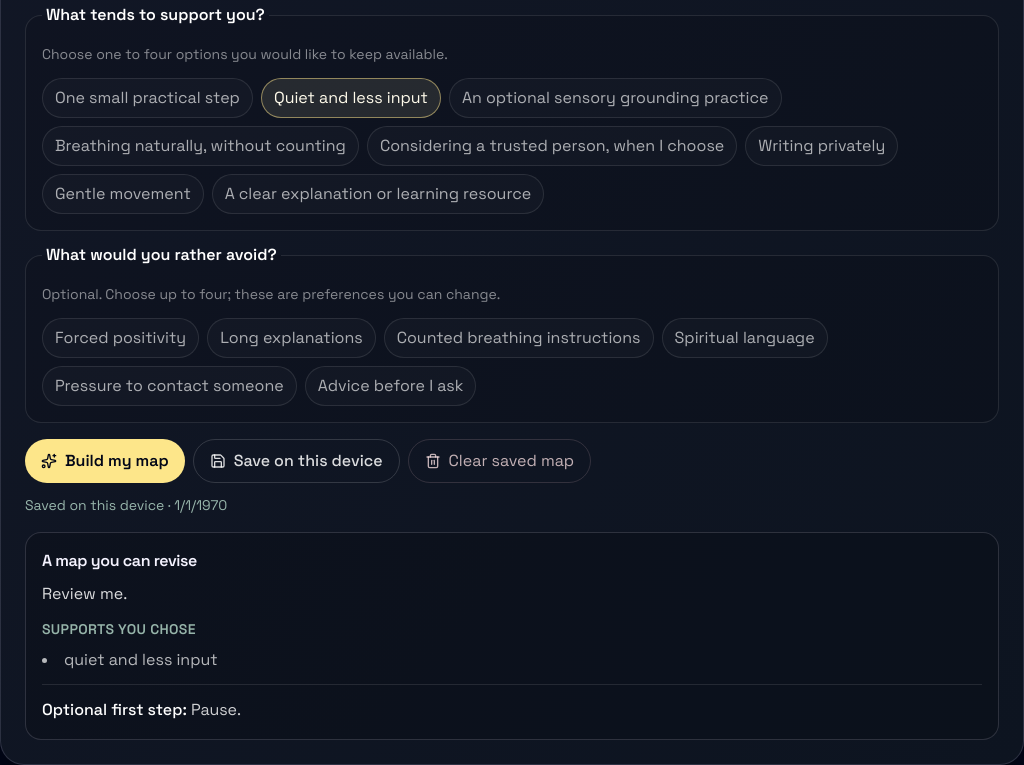
Test: CartographerMap › confirms before clearing a saved map
(page scrolled)
Click the button "Clear saved map". click: (499, 461)
box: x1=408 y1=439 x2=591 y2=483
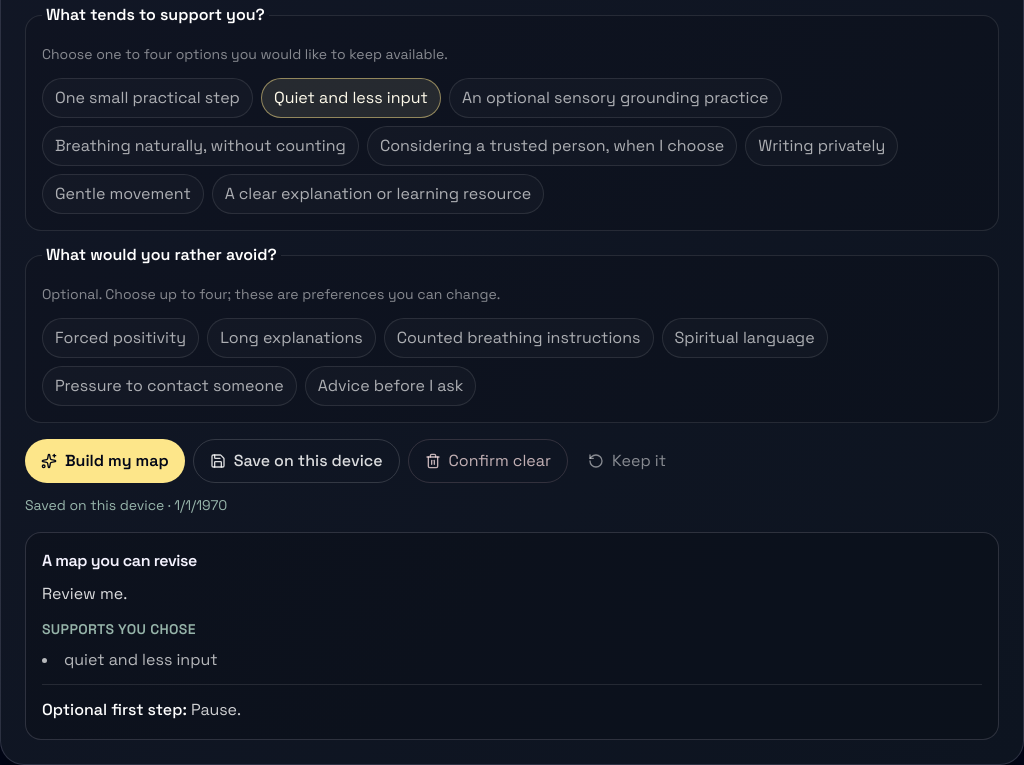
Click the button "Confirm clear". click: (488, 461)
box: x1=408 y1=439 x2=568 y2=483
(page scrolled)
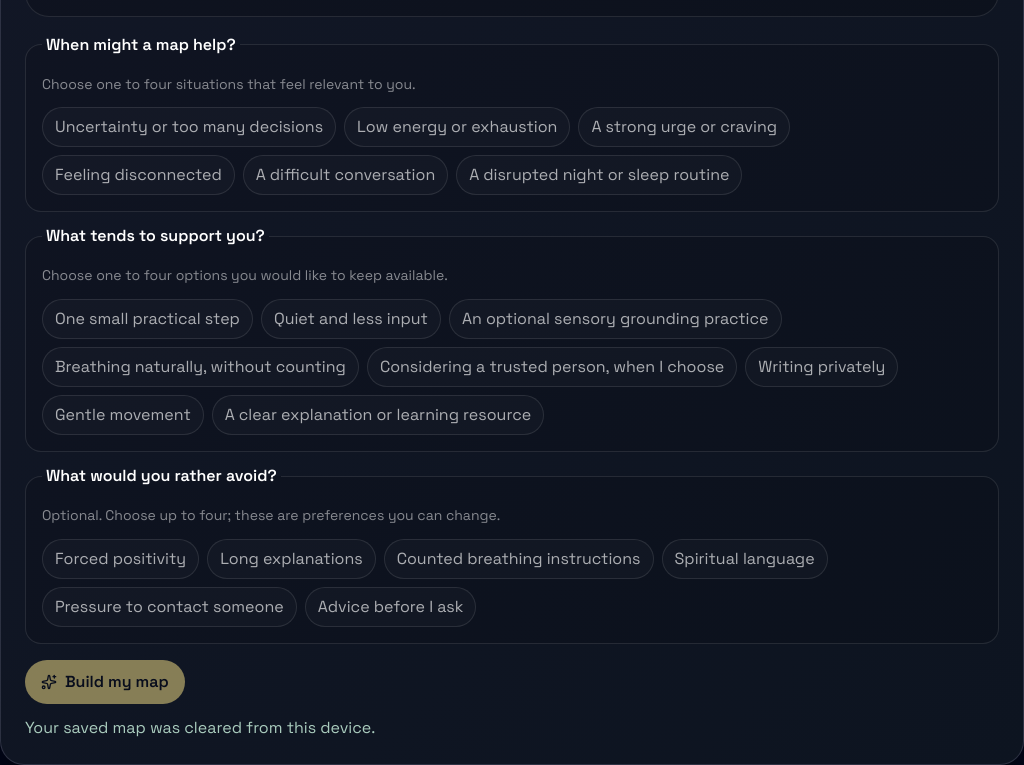
Check: the message shows "cleared from this device", box x1=25 y1=717 x2=375 y2=738
